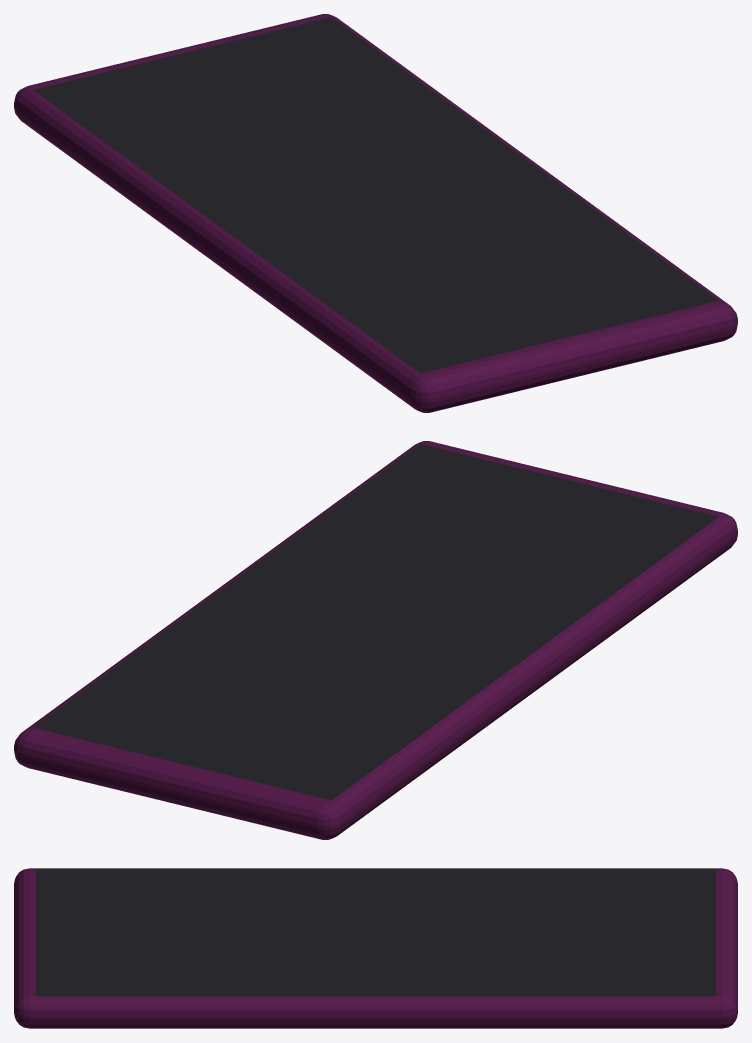
File: oppo-reno-model-298-budget-2024.glb
3 views of the same model, one above another, from view 1: azimuth 30°, elevation 25°; view 2: azimuth 150°, elevation 25°; view 3: azimuth 270°, elevation 25° (orthographic). The views are drawn at different scales.
Parts seen in each view (by area): view 1: Phone_Screen, Phone_Body; view 2: Phone_Screen, Phone_Body; view 3: Phone_Screen, Phone_Body.
Boxes of the visible parts, <box> form: Phone_Screen: <box>33,17,718,373</box>; Phone_Body: <box>14,14,737,412</box>; Phone_Screen: <box>33,444,718,800</box>; Phone_Body: <box>14,441,737,839</box>; Phone_Screen: <box>35,868,716,996</box>; Phone_Body: <box>14,868,737,1028</box>.
Bounding box in the file's own units: 0.0716 × 0.0076 × 0.1574.
